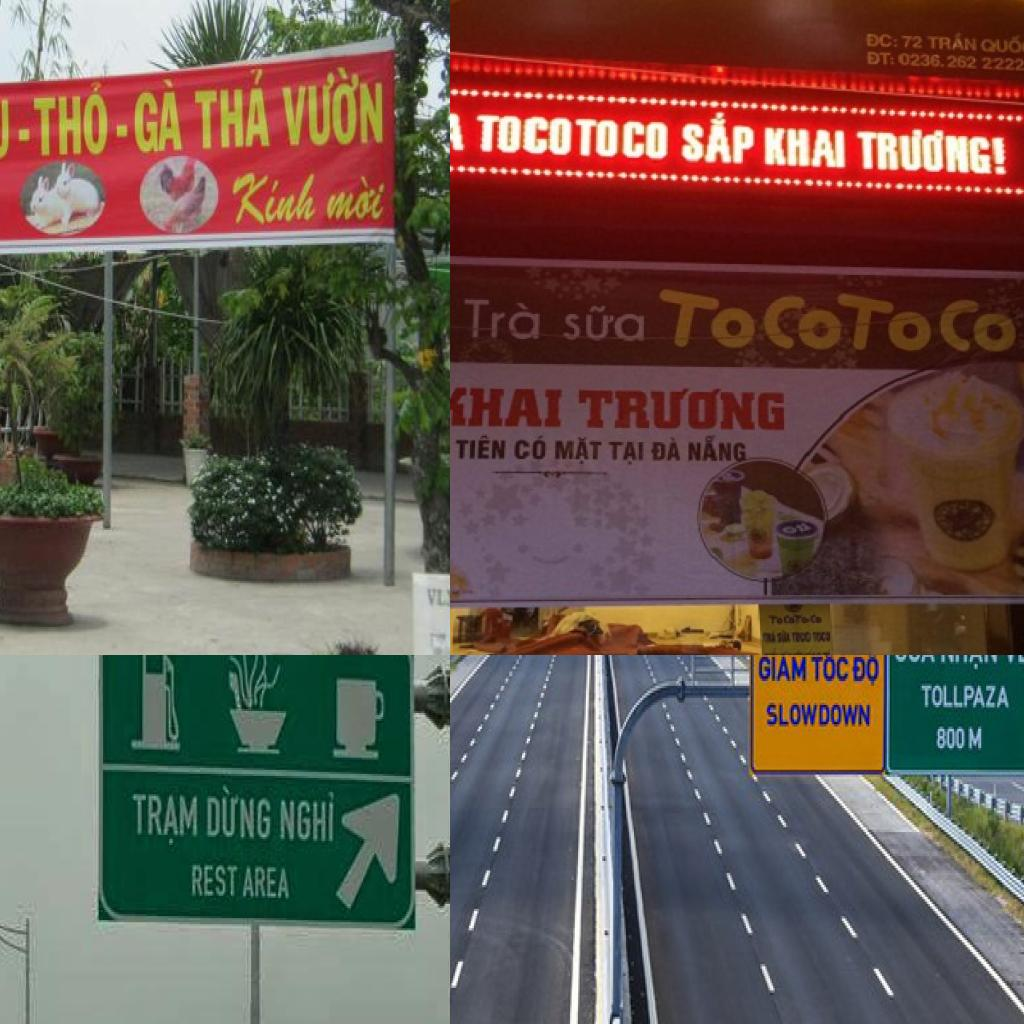text: (651, 287, 1021, 353), (576, 384, 789, 433), (281, 55, 387, 151), (473, 112, 673, 162), (191, 66, 276, 160), (856, 126, 1009, 176), (28, 78, 110, 161), (230, 165, 322, 226), (450, 384, 567, 429), (203, 780, 274, 851), (131, 74, 186, 160), (678, 111, 757, 166), (130, 788, 200, 847), (762, 124, 850, 170), (276, 788, 338, 851), (460, 297, 545, 342), (559, 303, 647, 345), (764, 698, 872, 731), (323, 174, 391, 224), (917, 684, 1012, 712), (188, 859, 240, 902), (686, 432, 752, 464), (454, 433, 511, 462), (554, 434, 604, 467), (757, 655, 806, 686), (926, 27, 980, 53), (811, 655, 851, 685), (608, 439, 648, 468), (937, 655, 1000, 673), (980, 31, 1024, 56), (933, 722, 967, 753), (514, 433, 550, 462), (851, 655, 880, 690), (649, 436, 685, 464), (450, 100, 468, 153), (767, 614, 827, 628), (864, 31, 902, 52), (866, 50, 898, 69), (965, 724, 983, 756), (902, 33, 927, 52), (893, 655, 936, 666), (17, 126, 33, 148), (1001, 655, 1024, 669), (115, 124, 131, 142)
